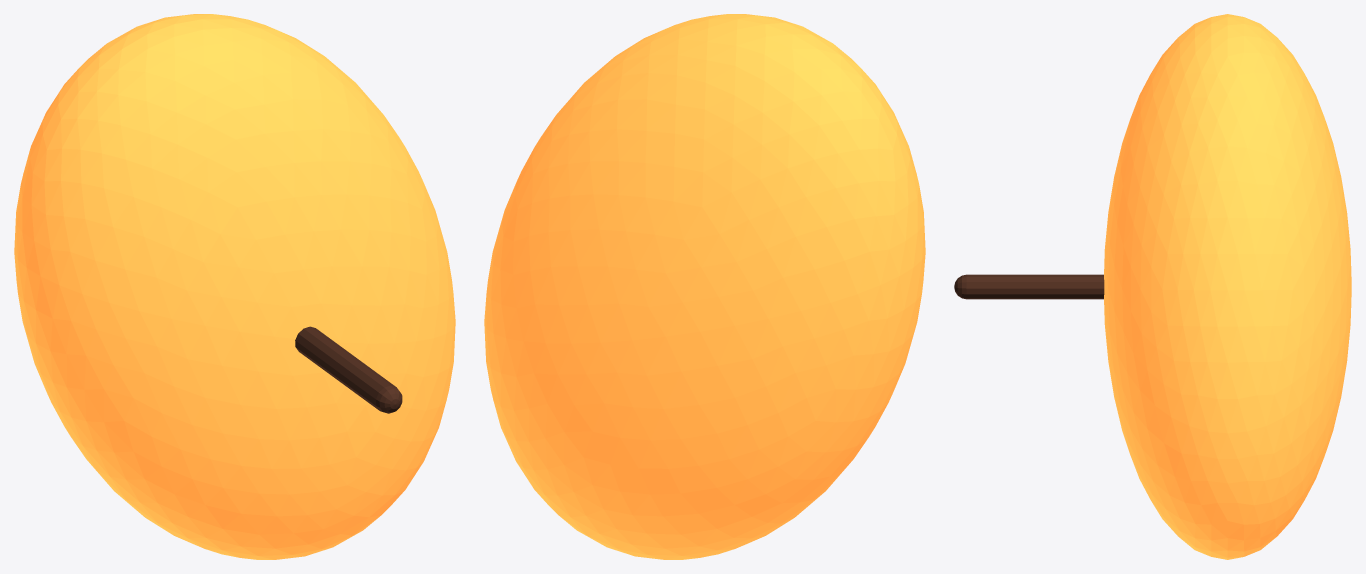
Rendered from coffee-bean.glb.
3 views of the same model, side by side, from view 1: azimuth 30°, elevation 25°; view 2: azimuth 150°, elevation 25°; view 3: azimuth 270°, elevation 25° (orthographic). The views are drawn at different scales.
Visible parts, largest first — view 1: bean_body, bean_seam; view 2: bean_body; view 3: bean_body, bean_seam.
Boxes of the visible parts, x1,y1,x2,y2 form: bean_body: (14, 14, 455, 559); bean_seam: (295, 326, 402, 413); bean_body: (484, 14, 925, 559); bean_body: (1104, 14, 1351, 559); bean_seam: (954, 274, 1104, 299).
Size of the model in its own units: 0.8258 by 1.05 by 0.801.
